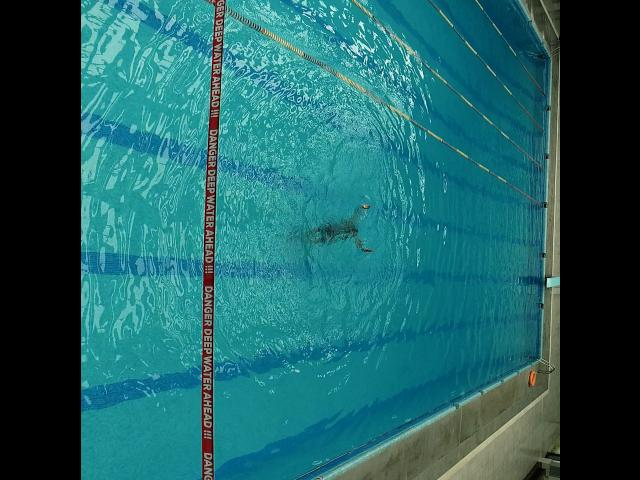drowning: (298, 203, 374, 254)
